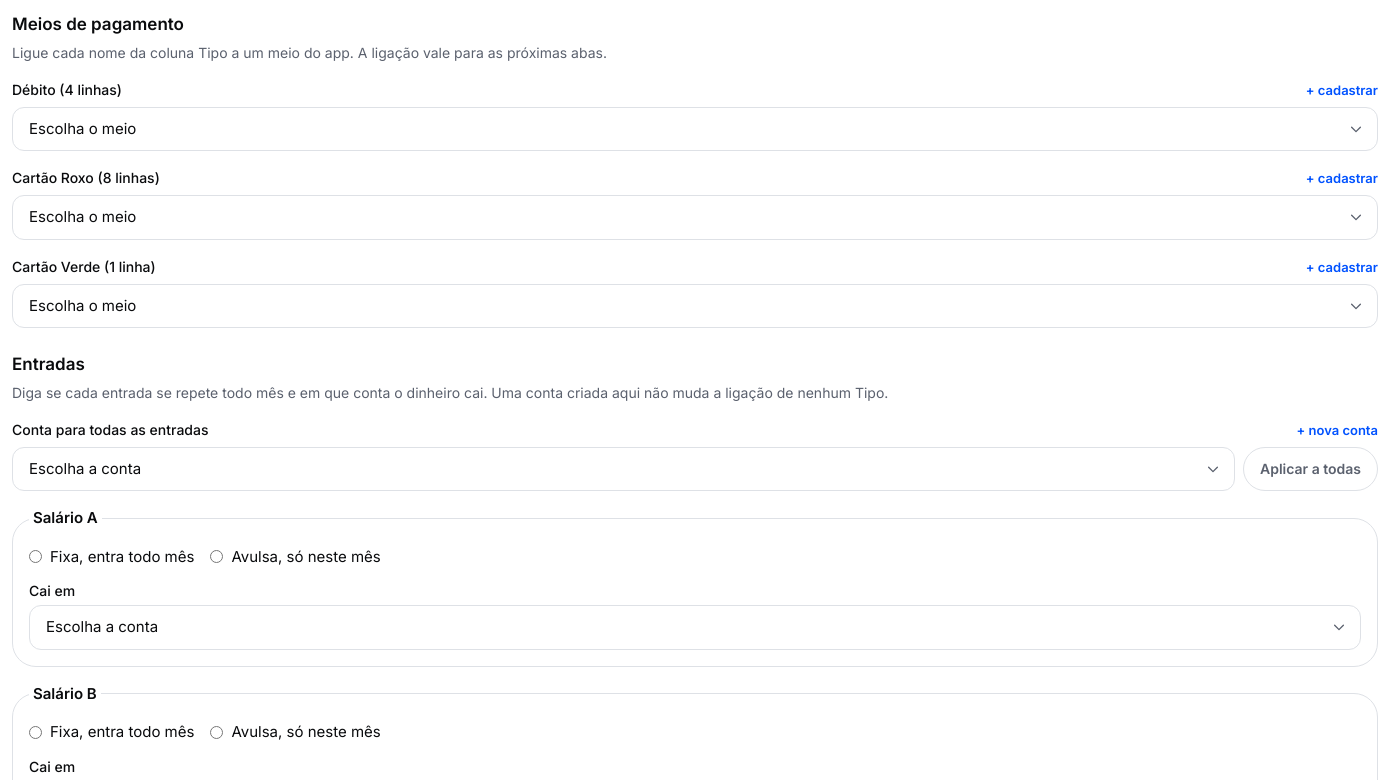
Test case: PassoPendencias — a mesma conta para todas as entradas (IMP-04, AC 11) › "Aplicar a todas" fica desabilitado até haver uma conta escolhida
The width and height of the screenshot is (1390, 780).
Expected: the button "Aplicar a todas" is disabled, [1243,446,1378,491]
Select "Conta Corrente" in the dropdown labelled "Conta para todas as entradas": [624, 469] box [12,446,1235,491]
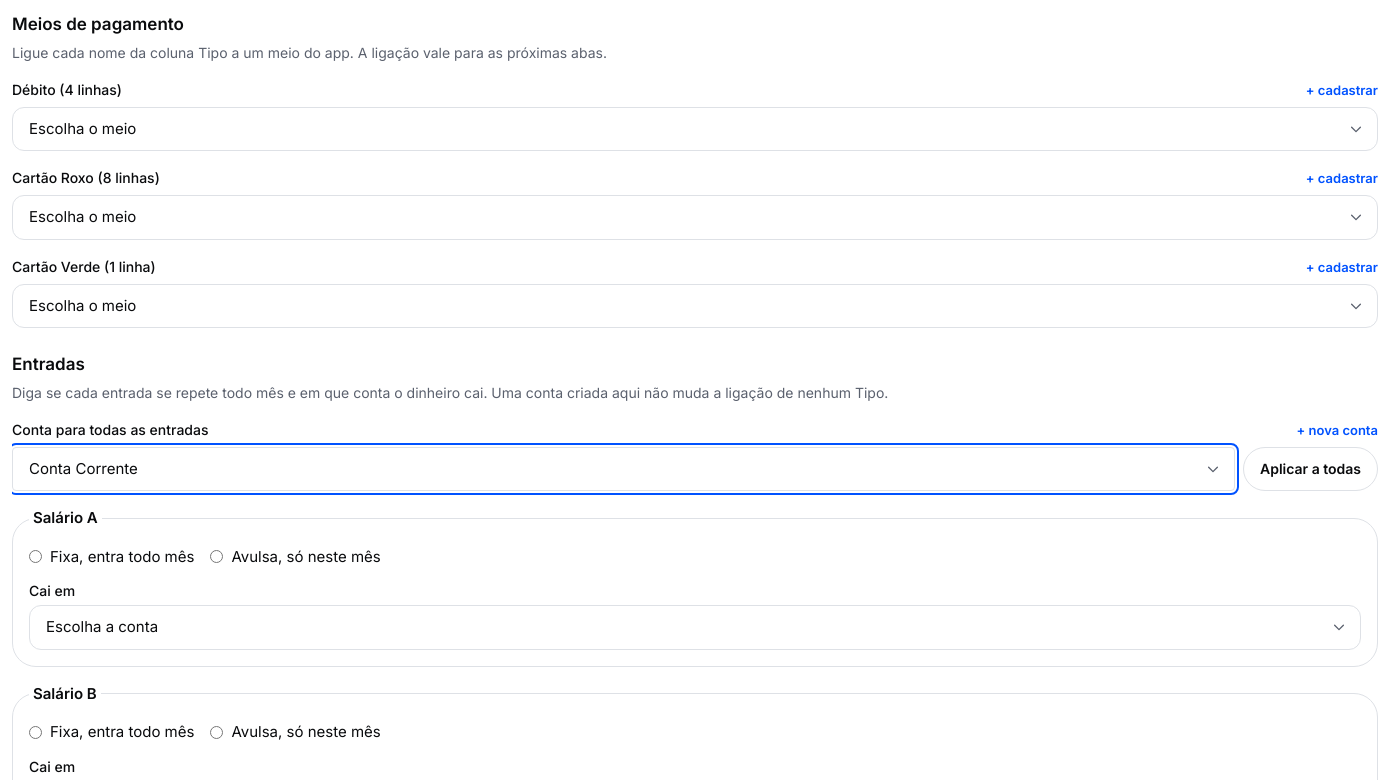
Expected: the button "Aplicar a todas" is enabled, [1243,446,1378,491]
